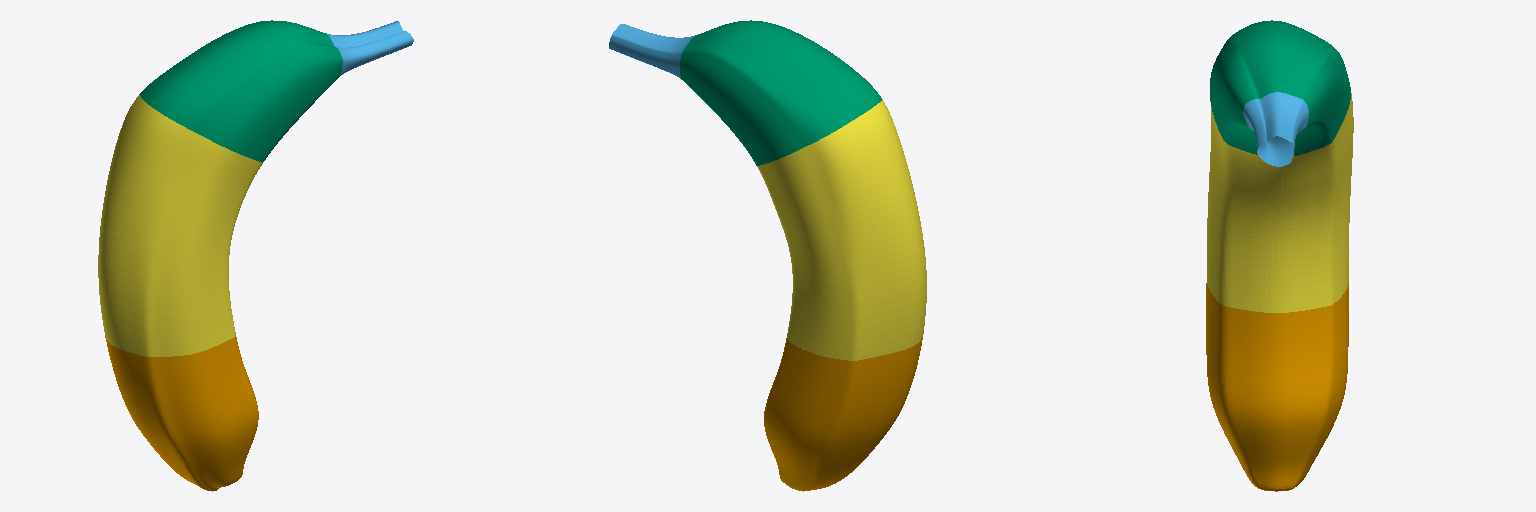
robot.urdf — banana:
<?xml version="1.0" ?>
<robot name="banana">

<material name="silver">
  <color rgba="0.98 0.93 0.36 1.000"/>
</material>

<link name="base_link">
  <inertial>
    <origin xyz="-0.01153903931698902 1.3565778413125364e-05 0.03702192970338306" rpy="0 0 0"/>
    <mass value="1.47929354119489376"/>
    <inertia ixx="0.0001409898550376698" iyy="0.00015008106164970058" izz="0.00010270082755563099" ixy="-1.670235586073203e-06" iyz="-7.185627833923014e-07" ixz="2.773053462475886e-05"/>
  </inertial>
  <visual>
    <origin xyz="0 0 0" rpy="0 0 0"/>
    <geometry>
      <mesh filename="meshes/base_link.stl" scale="0.001 0.001 0.001"/>
    </geometry>
    <material name="silver"/>
    <material/>
  </visual>
  <collision>
    <origin xyz="0 0 0" rpy="0 0 0"/>
    <geometry>
      <mesh filename="meshes/base_link.stl" scale="0.001 0.001 0.001"/>
    </geometry>
    <contact>
      <soft_cfm value="0.0"/>
      <soft_erp value="0.2"/>
  </contact>
  </collision>
</link>

<link name="banana_11">
  <inertial>
    <origin xyz="0.011198346658511174 0.0002503402081603441 -0.0005188368771734675" rpy="0 0 0"/>
    <mass value="1.21305073048535864"/>
    <inertia ixx="4.020067211477139e-07" iyy="1.5254890436888963e-06" izz="1.6344871079093654e-06" ixy="-7.975018690070942e-11" iyz="-1.5247830532012021e-09" ixz="-2.3730715415079193e-08"/>
  </inertial>
  <visual>
    <origin xyz="-0.04 6.1e-05 -0.140992" rpy="0 0 0"/>
    <geometry>
      <mesh filename="meshes/banana_11.stl" scale="0.001 0.001 0.001"/>
    </geometry>
    <material name="silver"/>
    <material/>
  </visual>
  <collision>
    <origin xyz="-0.04 6.1e-05 -0.140992" rpy="0 0 0"/>
    <geometry>
      <mesh filename="meshes/banana_11.stl" scale="0.001 0.001 0.001"/>
    </geometry>
    <contact>
      <soft_cfm value="0.0"/>
      <soft_erp value="0.2"/>
  </contact>
  </collision>
</link>

<link name="banana_31">
  <inertial>
    <origin xyz="0.015965496311342572 -0.0009649742913347116 0.010743344140724947" rpy="0 0 0"/>
    <mass value="1.3566627670879692"/>
    <inertia ixx="5.593838448001657e-05" iyy="9.12979029264703e-05" izz="9.723502170257665e-05" ixy="7.966116104062015e-07" iyz="7.74872458000115e-07" ixz="-7.524888667503481e-06"/>
  </inertial>
  <visual>
    <origin xyz="0.005828 -0.0013 -0.126288" rpy="0 0 0"/>
    <geometry>
      <mesh filename="meshes/banana_31.stl" scale="0.001 0.001 0.001"/>
    </geometry>
    <material name="silver"/>
    <material/>
  </visual>
  <collision>
    <origin xyz="0.005828 -0.0013 -0.126288" rpy="0 0 0"/>
    <geometry>
      <mesh filename="meshes/banana_31.stl" scale="0.001 0.001 0.001"/>
    </geometry>
    <contact>
      <soft_cfm value="0.0"/>
      <soft_erp value="0.2"/>
  </contact>
  </collision>
</link>

<link name="banana_21">
  <inertial>
    <origin xyz="0.0011909714821306608 0.0005576133176566685 0.0347343242314844" rpy="0 0 0"/>
    <mass value="0.7447759607492765"/>
    <inertia ixx="0.0003775589095185673" iyy="0.0003847372229822642" izz="0.00016676664021554672" ixy="-1.550802130338407e-06" iyz="-8.343721782560476e-06" ixz="-2.8803262700124012e-05"/>
  </inertial>
  <visual>
    <origin xyz="0.018164 -0.000449 -0.059807" rpy="0 0 0"/>
    <geometry>
      <mesh filename="meshes/banana_21.stl" scale="0.001 0.001 0.001"/>
    </geometry>
    <material name="silver"/>
    <material/>
  </visual>
  <collision>
    <origin xyz="0.018164 -0.000449 -0.059807" rpy="0 0 0"/>
    <geometry>
      <mesh filename="meshes/banana_21.stl" scale="0.001 0.001 0.001"/>
    </geometry>
    <contact>
      <soft_cfm value="0.0"/>
      <soft_erp value="0.2"/>
  </contact>
  </collision>
</link>

<joint name="Rigid_1" type="fixed">
  <origin xyz="0.045828 -0.001361 0.014704" rpy="0 0 0"/>
  <parent link="banana_31"/>
  <child link="banana_11"/>
</joint>

<joint name="Rigid_2" type="fixed">
  <origin xyz="0.012336 0.000851 0.066481" rpy="0 0 0"/>
  <parent link="banana_21"/>
  <child link="banana_31"/>
</joint>

<joint name="Rigid_3" type="fixed">
  <origin xyz="-0.018164 0.000449 0.059807" rpy="0 0 0"/>
  <parent link="base_link"/>
  <child link="banana_21"/>
</joint>

</robot>

--- What the picture shows (computed from the rendered views, not written in the file) ---
3 views of the same robot in one strip: view 1: azimuth 30°, elevation 25°; view 2: azimuth 150°, elevation 25°; view 3: azimuth 270°, elevation 25° (orthographic).
Robot: banana — 4 links, 3 joints (3 fixed); root link base_link; default pose: every joint at zero.
Visible links, largest first — view 1: banana_21, banana_31, base_link, banana_11; view 2: banana_21, banana_31, base_link, banana_11; view 3: banana_21, base_link, banana_31, banana_11.
Link boxes in pixels (box(x1,y1,x2,y2)): banana_21: box(98, 94, 262, 356); banana_31: box(140, 20, 342, 162); base_link: box(105, 335, 258, 491); banana_11: box(326, 21, 413, 74); banana_21: box(757, 99, 926, 360); banana_31: box(680, 20, 881, 165); base_link: box(764, 333, 923, 491); banana_11: box(609, 24, 693, 78); banana_21: box(1207, 93, 1353, 312); base_link: box(1206, 283, 1348, 491); banana_31: box(1210, 20, 1350, 155); banana_11: box(1243, 92, 1308, 166).
Size in the robot's own frame: 0.1101 by 0.0429 by 0.1544 metres.
4 mesh visuals loaded from 4 distinct referenced files (4 binary STL).